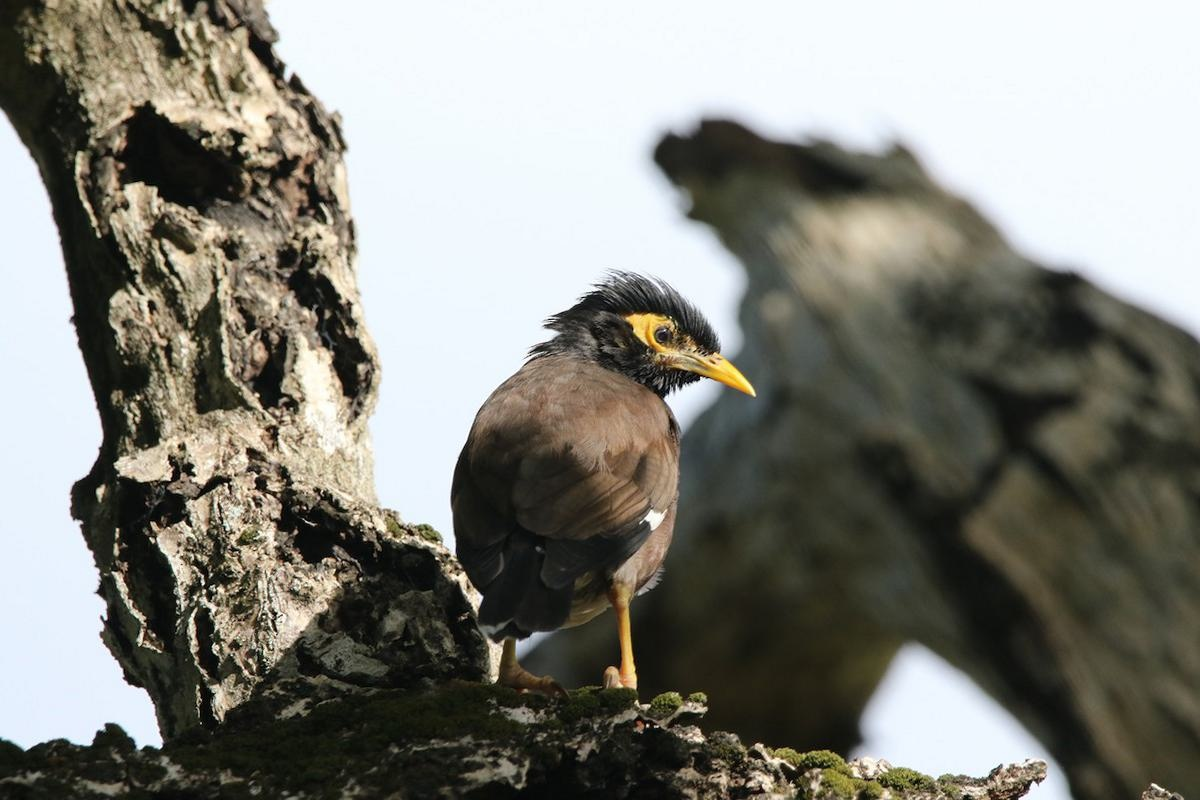myna: (450, 242, 761, 672)
